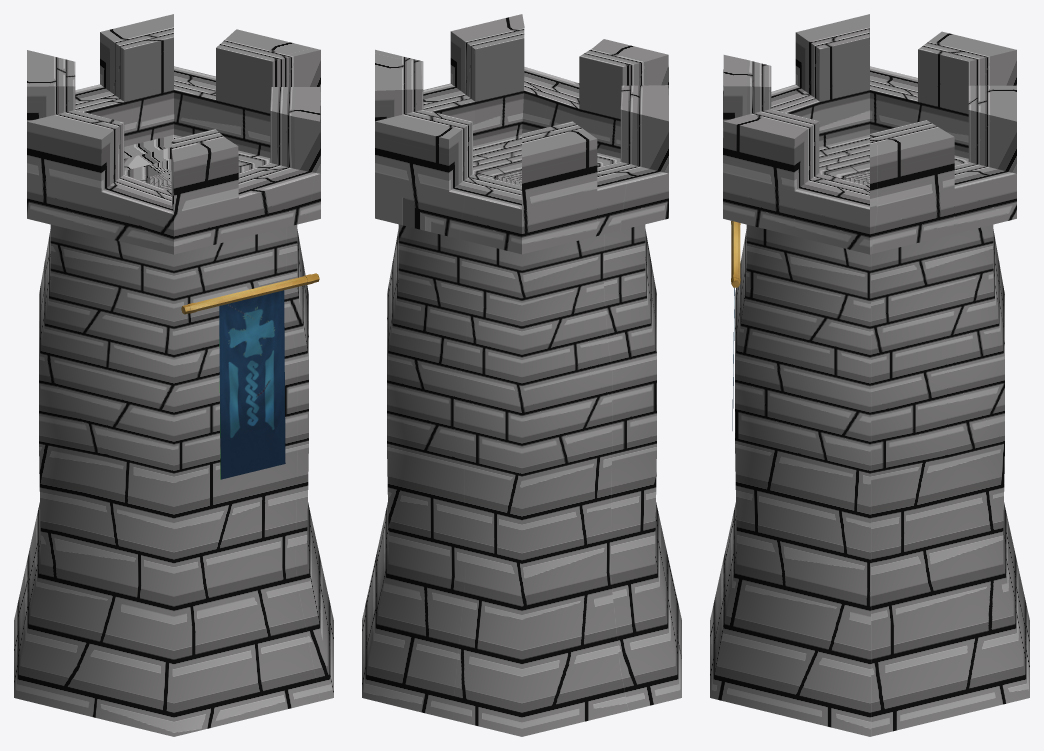
File: VelocityTower.FBX
The picture shows the model from 3 angles, left to right: view 1: azimuth 30°, elevation 25°; view 2: azimuth 150°, elevation 25°; view 3: azimuth 270°, elevation 25°; orthographic projection.
Visible parts, largest first — view 1: Velocity, Cylinder003; view 2: Velocity; view 3: Velocity, Cylinder003.
Boxes of the visible parts, box(x1,y1,x2,y2) form: Velocity: box(14, 14, 333, 736); Cylinder003: box(181, 273, 319, 479); Velocity: box(362, 14, 681, 736); Velocity: box(710, 14, 1029, 736); Cylinder003: box(731, 221, 740, 430).
Size of the model in its own units: 386 by 662 by 335.
2 materials, 2 textured.
